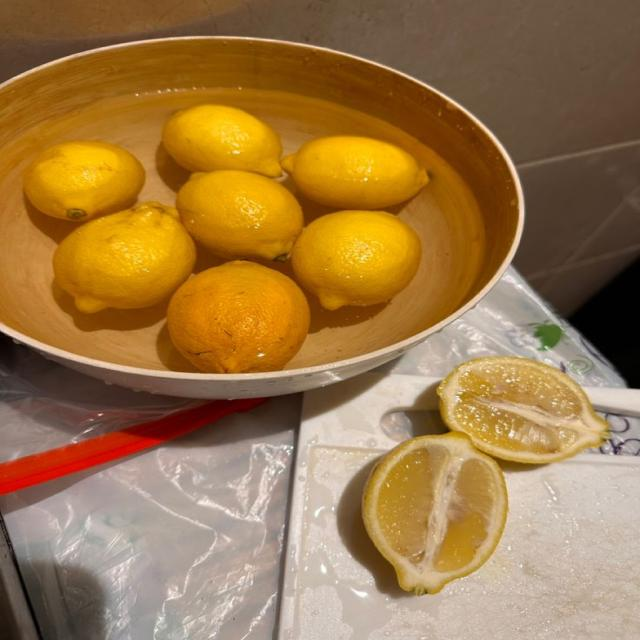lemon: (362, 433, 507, 594), (438, 357, 608, 463), (167, 261, 310, 373), (54, 202, 195, 313), (291, 211, 421, 309), (177, 171, 303, 260), (281, 136, 428, 209), (24, 141, 145, 221), (162, 104, 281, 177)
